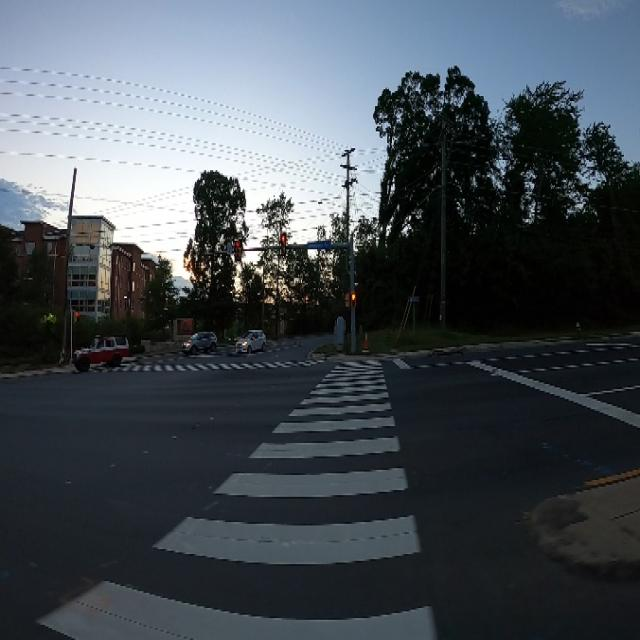cars: (74, 328, 131, 373), (235, 323, 269, 362), (181, 326, 219, 358)
